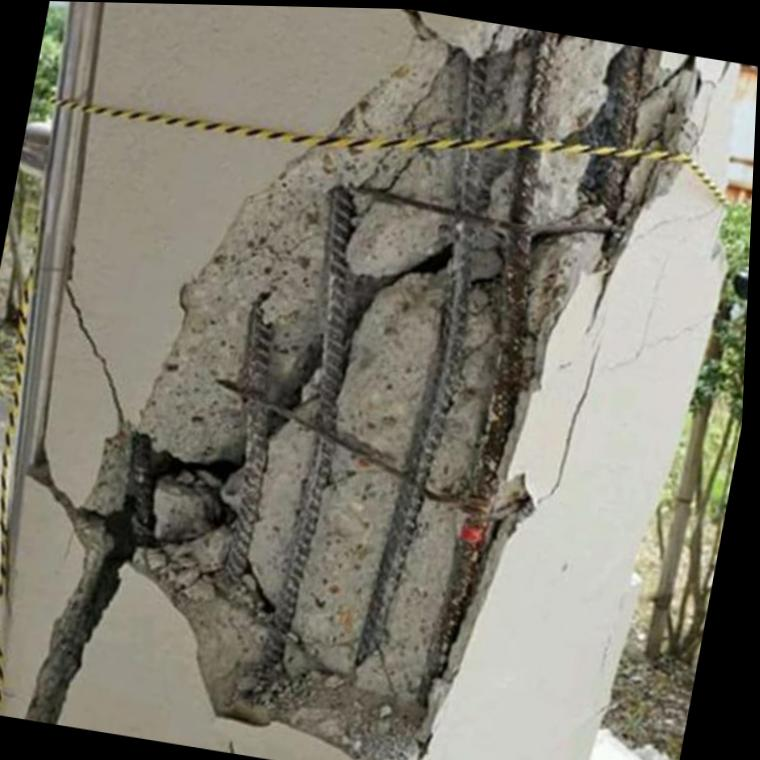crack: (613, 253, 712, 367), (540, 341, 605, 502), (67, 282, 129, 423), (629, 201, 725, 242), (587, 270, 612, 334), (422, 732, 439, 760)
damage: (26, 7, 702, 760)
